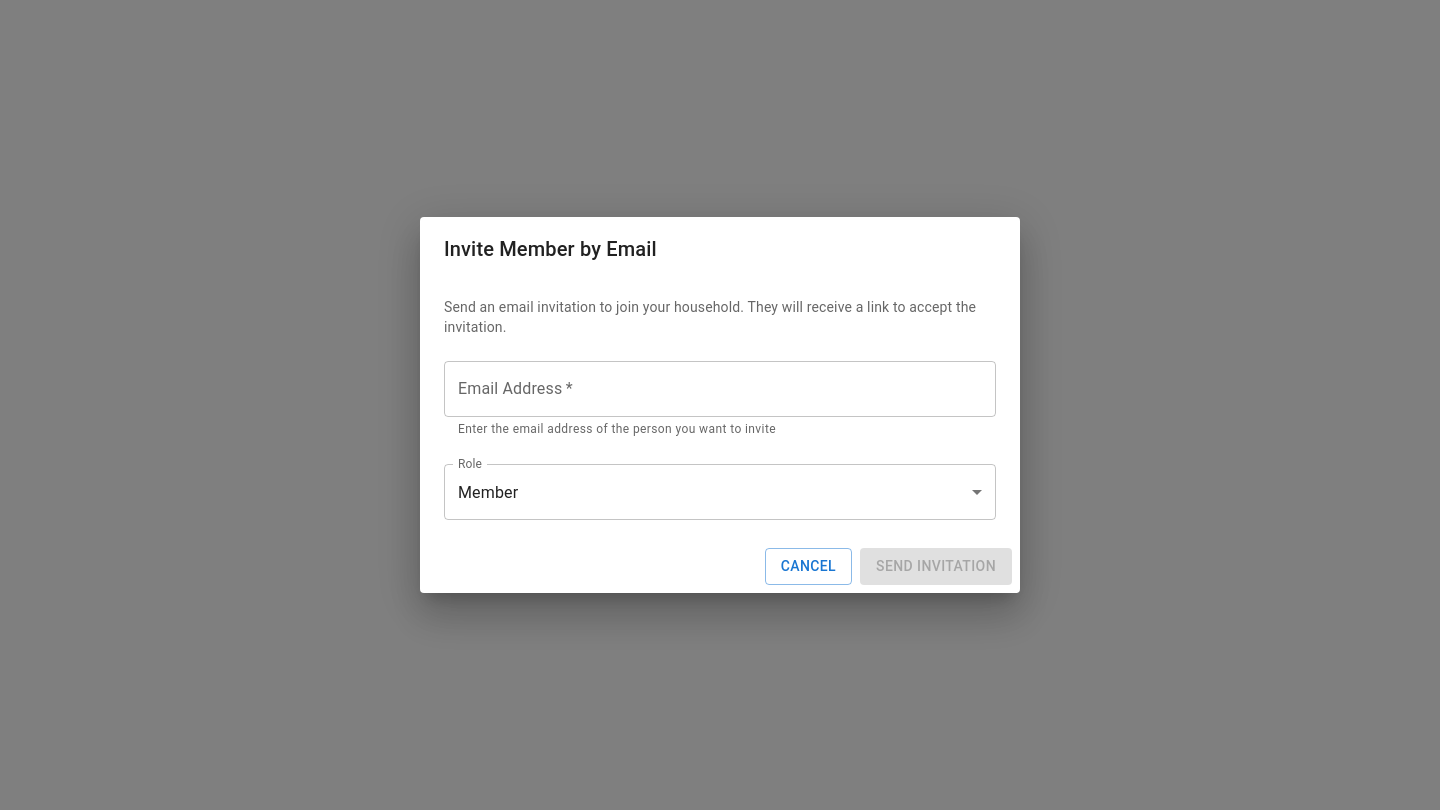
InviteMemberDialog Component › Form interaction › should allow selecting role
Click the dropdown at [488, 492], box [458,483,518,502]
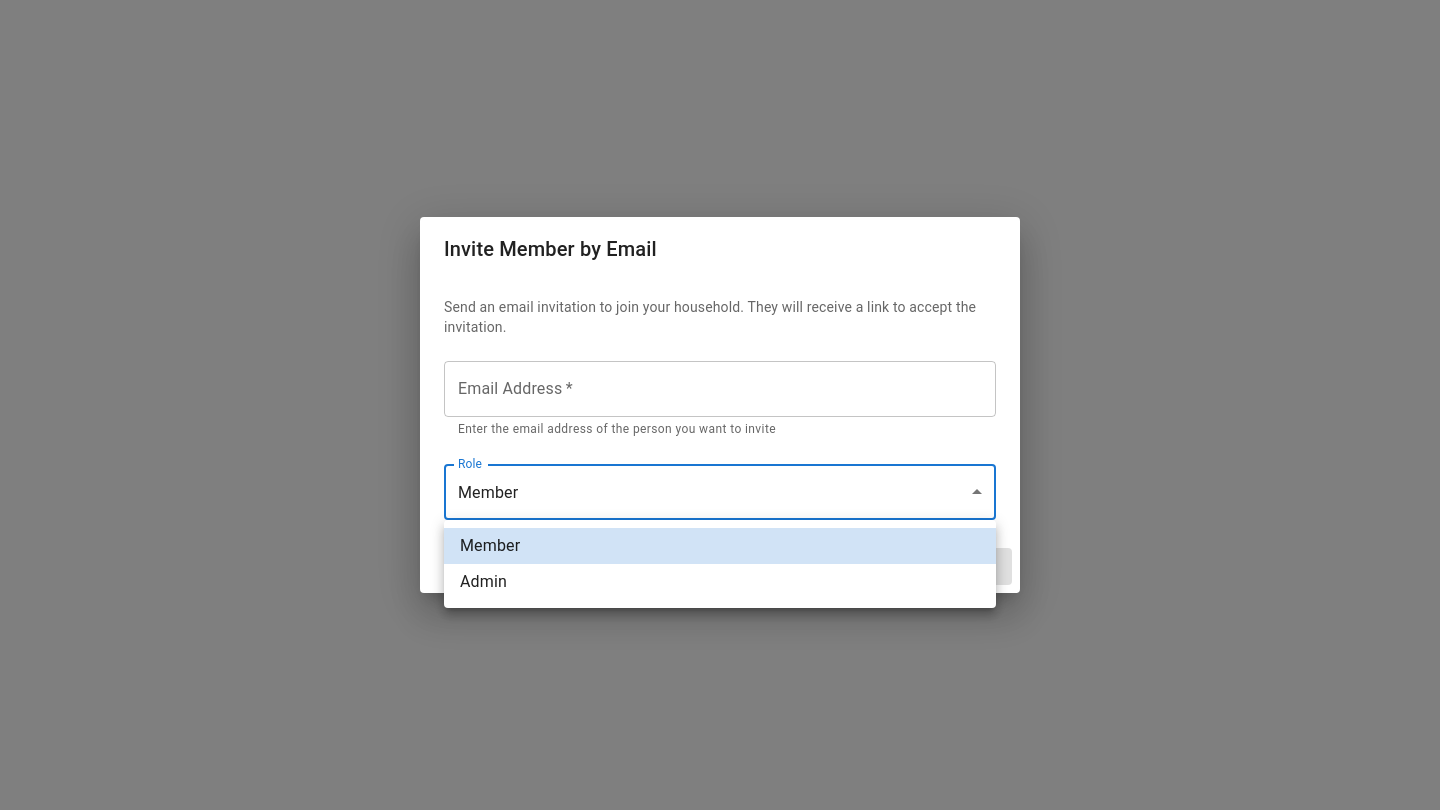
Click the option "Admin" at [484, 582], box [460,572,507,591]
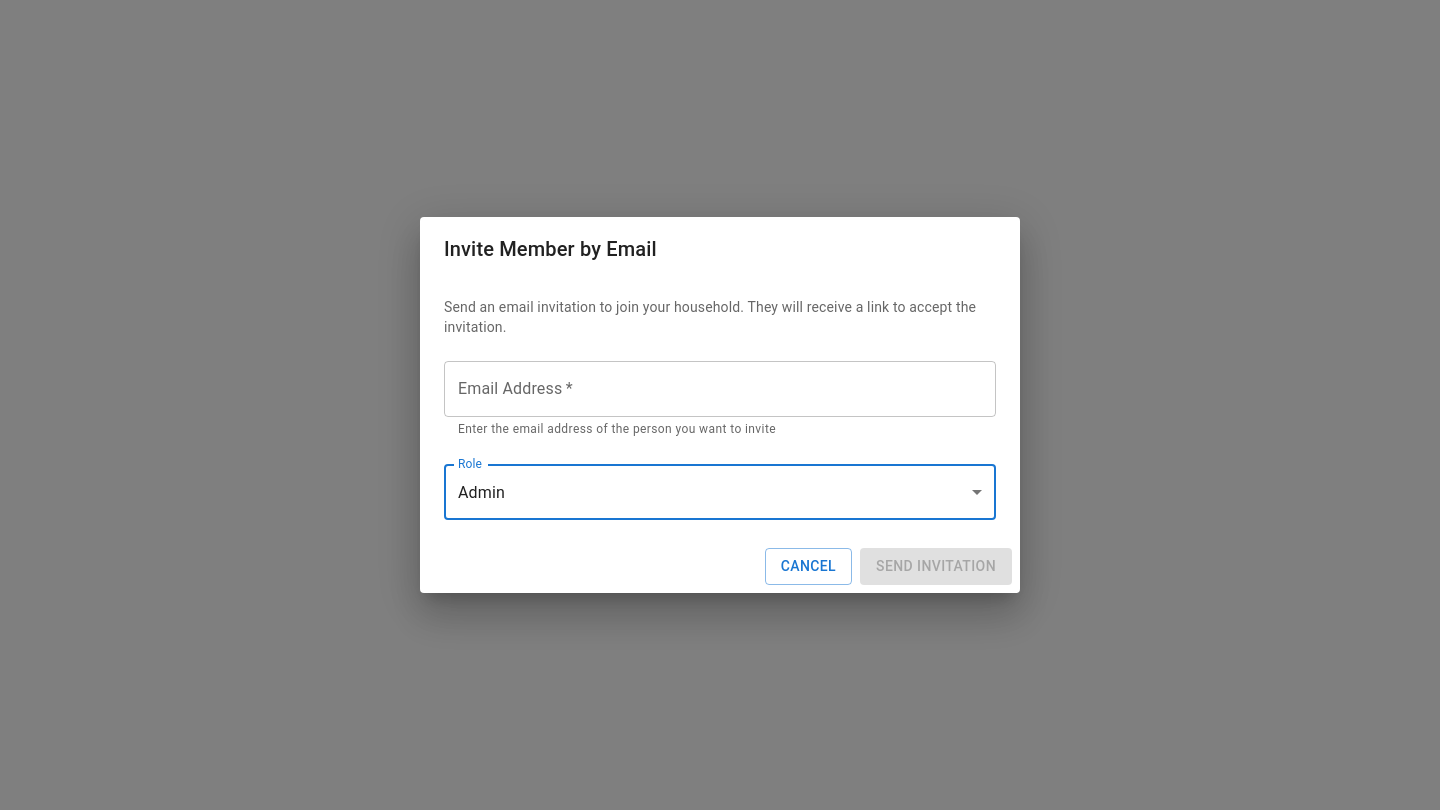
Expected: the dropdown reads "Admin", [458,483,505,502]
